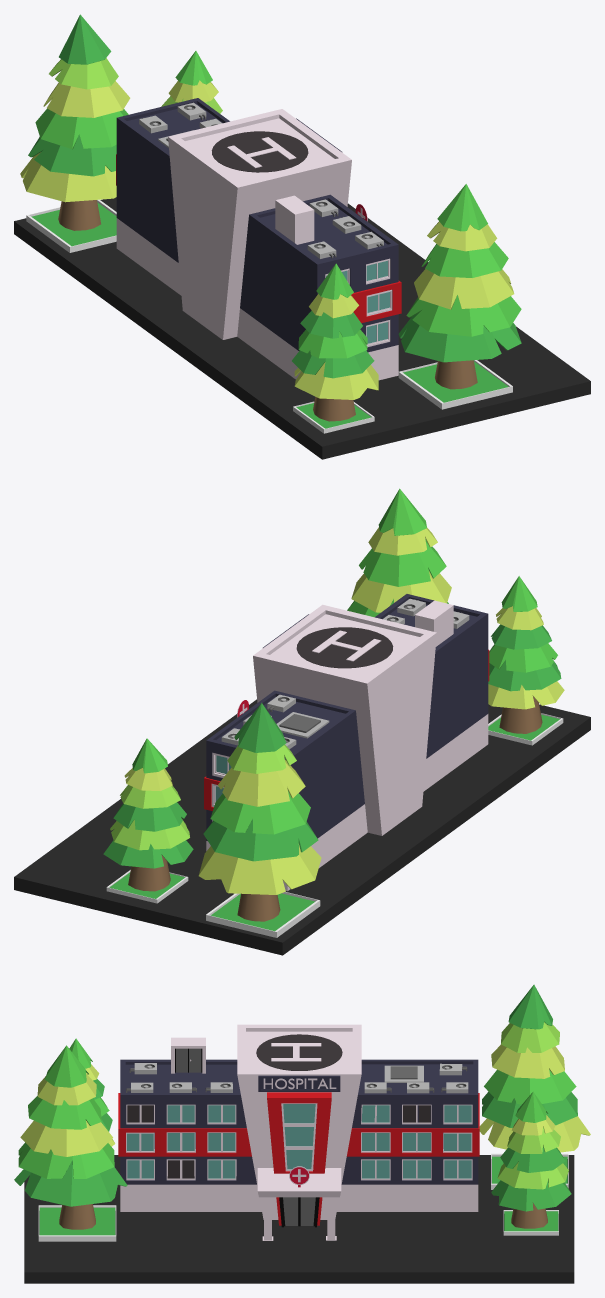
The model's file is hospital.fbx.
The picture shows the model from 3 angles, top to bottom: view 1: azimuth 30°, elevation 25°; view 2: azimuth 150°, elevation 25°; view 3: azimuth 270°, elevation 25°; orthographic projection. The views are drawn at different scales.
Visible parts, largest first — view 1: hospital; view 2: hospital; view 3: hospital.
Boxes of the visible parts, <box> form: hospital: <box>14,14,590,459</box>; hospital: <box>14,488,590,955</box>; hospital: <box>14,984,590,1283</box>.
Size of the model in its own units: 487 by 377 by 979.
